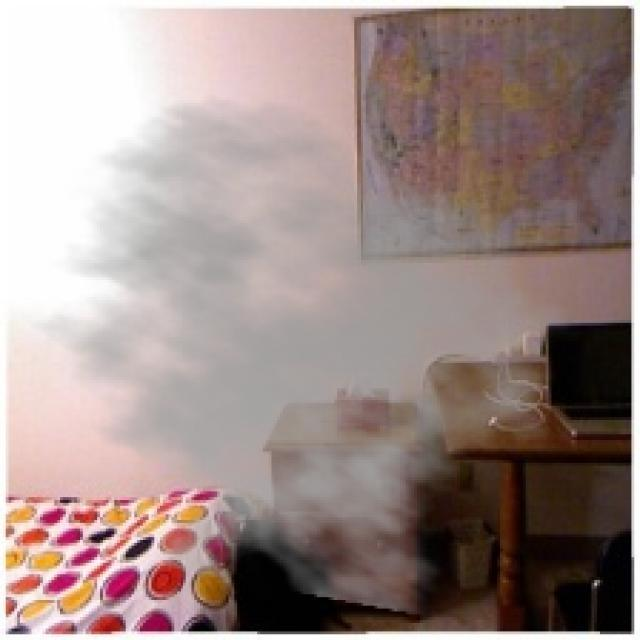Smoke: (12, 94, 574, 617)
